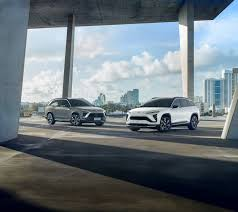car: (123, 91, 204, 140), (39, 92, 112, 140)
